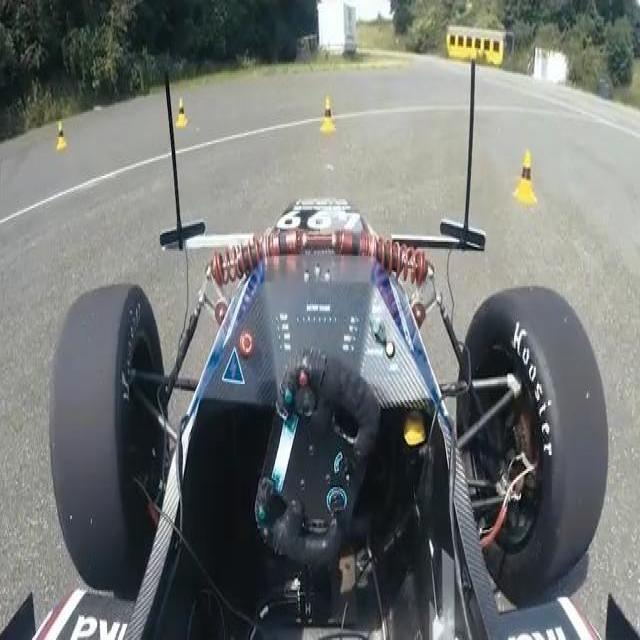yellow_cone: (513, 148, 538, 206), (320, 96, 336, 135), (175, 96, 189, 129), (55, 121, 69, 150)
